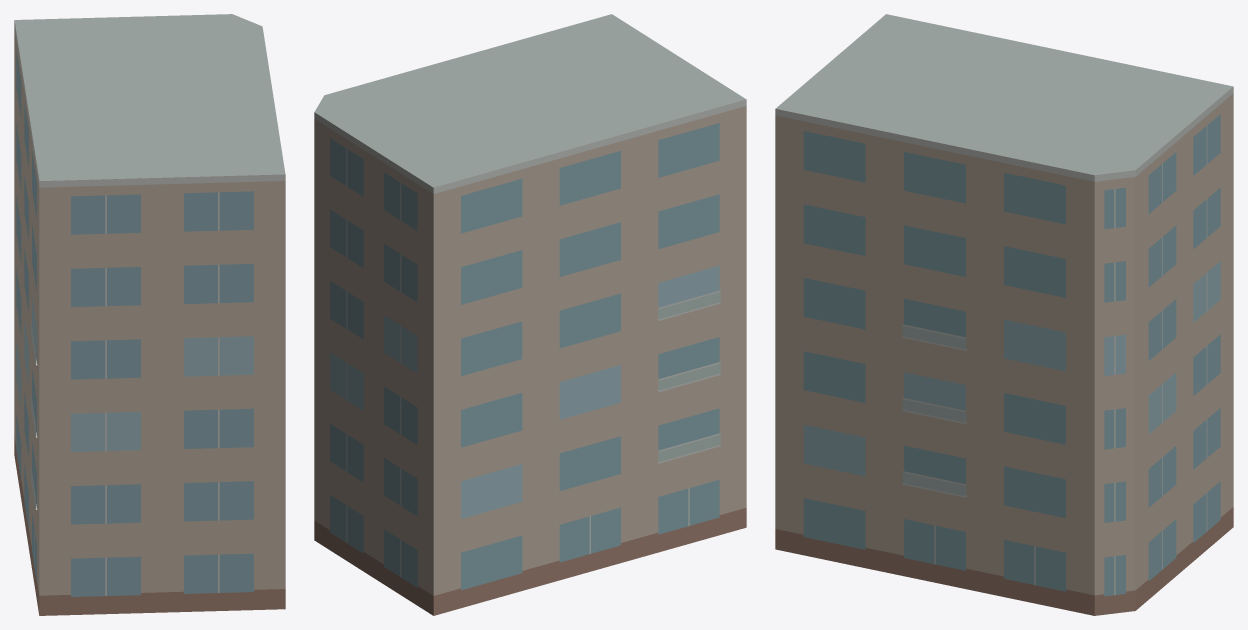
File: survey-upis-32884397.glb
3 views of the same model, side by side, from view 1: azimuth 30°, elevation 25°; view 2: azimuth 150°, elevation 25°; view 3: azimuth 270°, elevation 25° (orthographic). The views are drawn at different scales.
Parts seen in each view (by area): view 1: survey-upis-32884397.tmp; view 2: survey-upis-32884397.tmp; view 3: survey-upis-32884397.tmp.
Part boxes in pixels (x1,y1,x2,y2): survey-upis-32884397.tmp: (14,14,285,615); survey-upis-32884397.tmp: (314,14,746,615); survey-upis-32884397.tmp: (775,14,1233,615).
Bounding box in the file's own units: 12.8 × 16.3 × 15.37.
